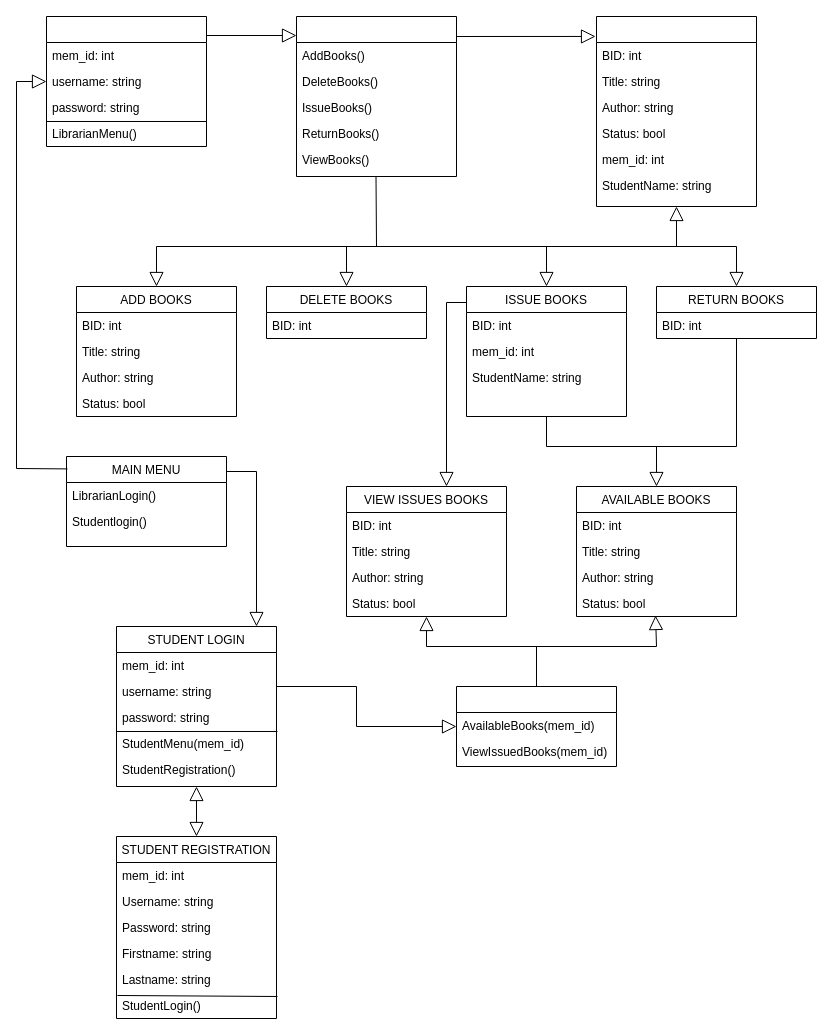
The diagram is 833 pixels wide and 1035 high, and some of its shapes have lost their labels. Each missing label, with the box of its shape:
LIBRARIAN LOGIN: (46, 16, 206, 146)
LIBRARIAN MENU: (296, 16, 456, 176)
STUDENT MENU: (456, 686, 616, 766)
VIEW BOOKS: (596, 16, 756, 206)
